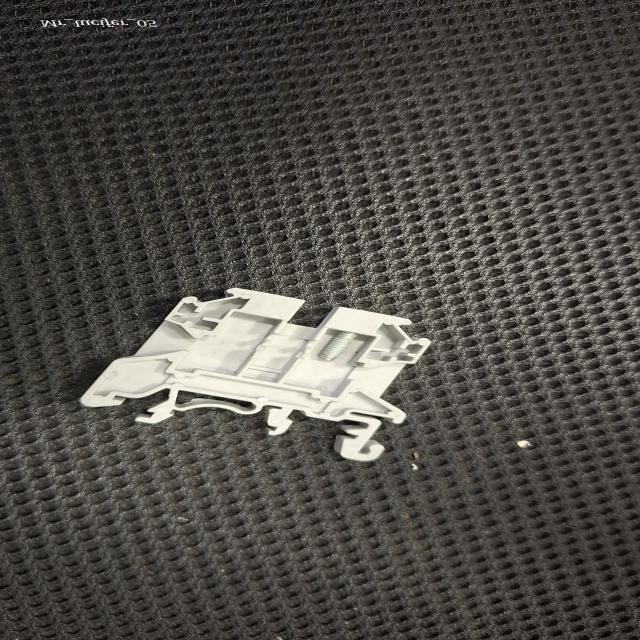Reject: (82, 289, 434, 462)
